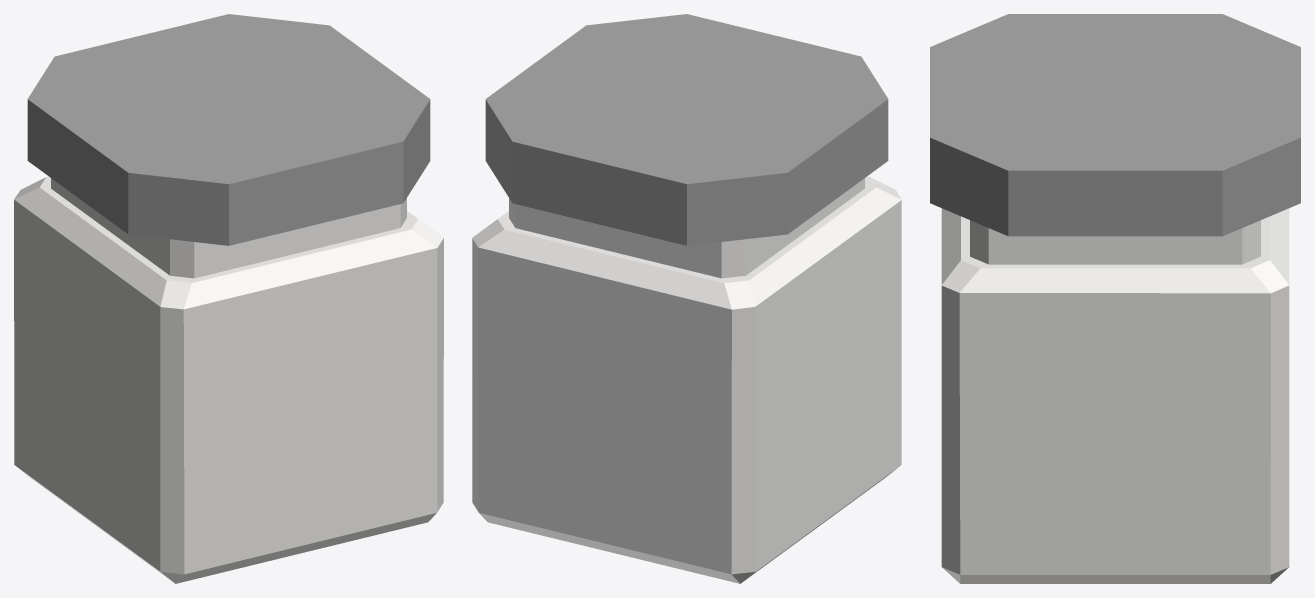
The model's file is Jar_2.fbx.
The picture shows the model from 3 angles, left to right: view 1: azimuth 30°, elevation 25°; view 2: azimuth 150°, elevation 25°; view 3: azimuth 270°, elevation 25°; orthographic projection. The views are drawn at different scales.
Parts seen in each view (by area): view 1: Jar_2; view 2: Jar_2; view 3: Jar_2.
Boxes of the visible parts, x1=… form: Jar_2: x1=14, y1=14, x2=443, y2=583; Jar_2: x1=472, y1=14, x2=901, y2=583; Jar_2: x1=930, y1=14, x2=1300, y2=583.
Bounding box in the file's own units: 17.22 × 17.22 × 21.83.
